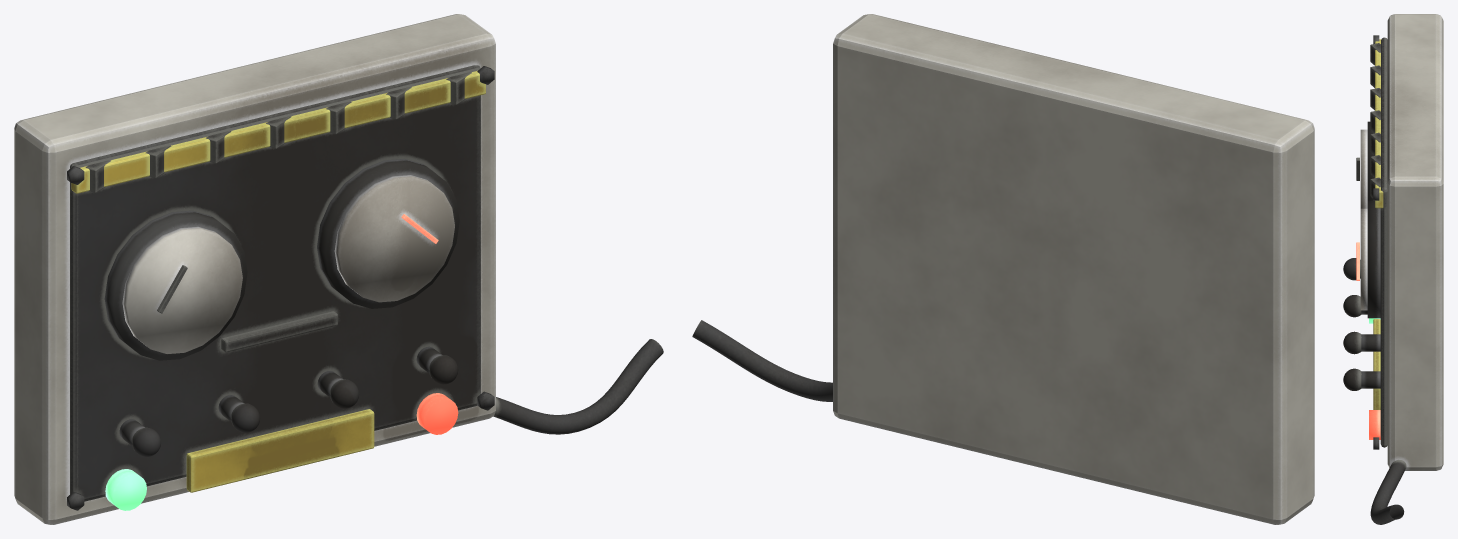
The model's file is airlock_pressure_panel.glb.
The picture shows the model from 3 angles, left to right: view 1: azimuth 30°, elevation 25°; view 2: azimuth 150°, elevation 25°; view 3: azimuth 270°, elevation 25°; orthographic projection. The views are drawn at different scales.
Parts seen in each view (by area): view 1: PressurePanel; view 2: PressurePanel; view 3: PressurePanel.
Boxes of the visible parts, <box> form: PressurePanel: <box>14,14,663,524</box>; PressurePanel: <box>692,14,1314,524</box>; PressurePanel: <box>1343,14,1443,524</box>.
Size of the model in its own units: 0.8755 by 0.5522 by 0.161.
9 materials, 9 textured.
